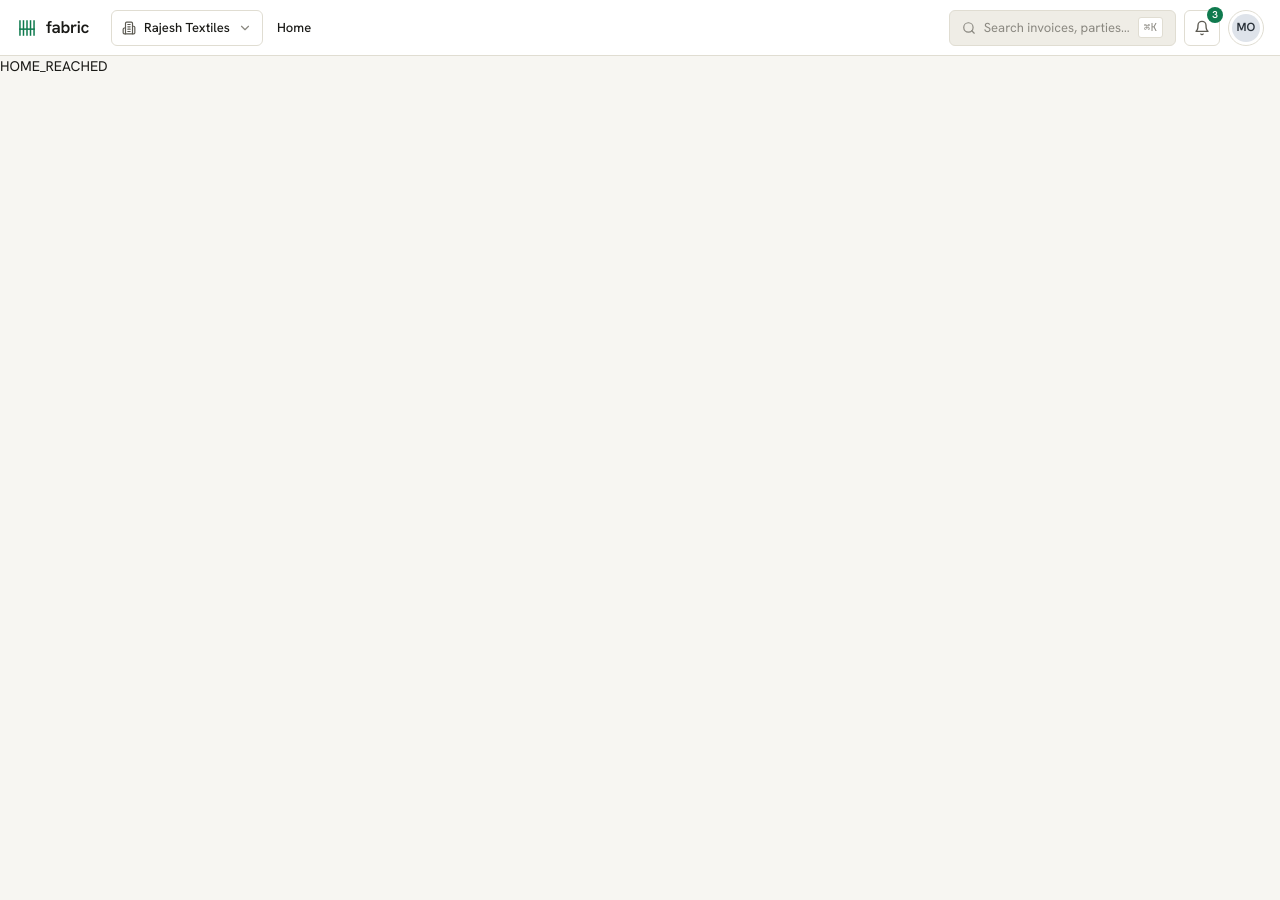
it: CommandPalette (T8) › opens via the TopBar search button and shows a Pages group
What coordinates should you click on to do the following:
click the button with aria-label "open command palette"
I would click on:
 (1062, 28)
Its box is [949,10,1176,46].
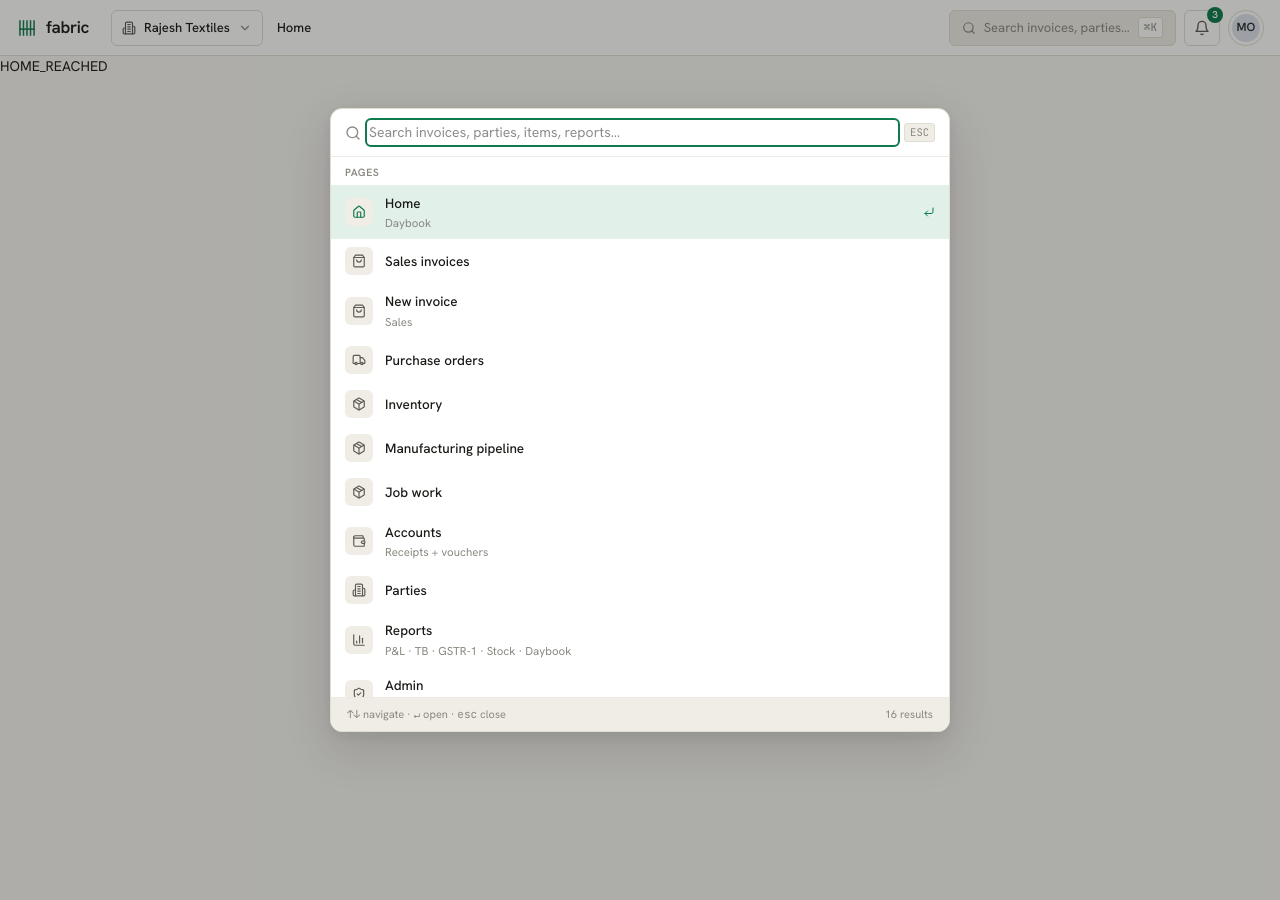
expect the dialog named "command palette" is shown: met
expect the list item "Pages" is shown: met, box [331,157,949,185]
